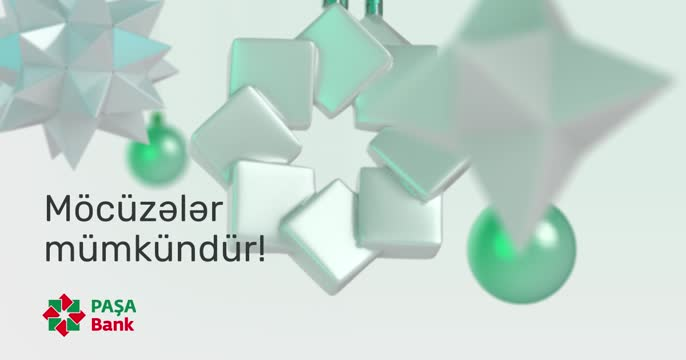Pasha Bank: (37, 292, 87, 340)
